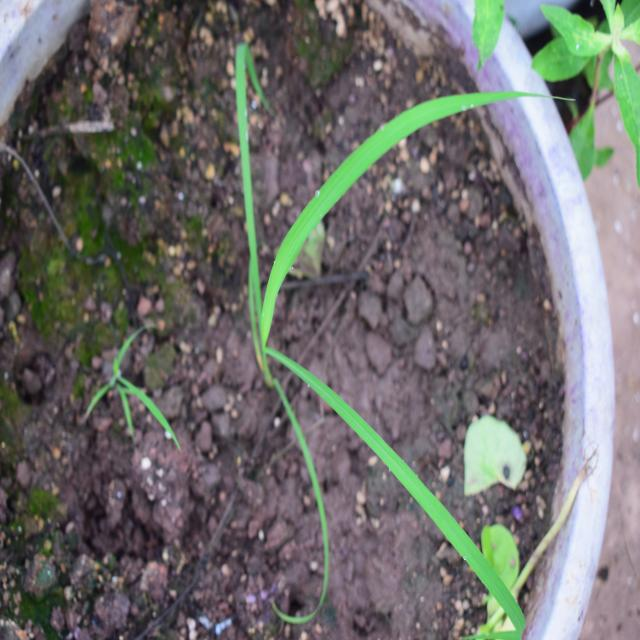barnyard_grass: (202, 41, 540, 635)
